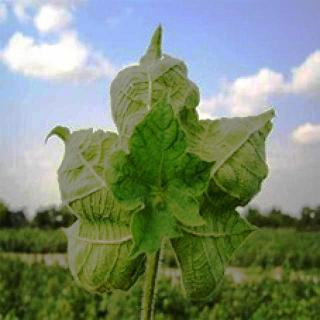curl: (43, 23, 275, 301)
